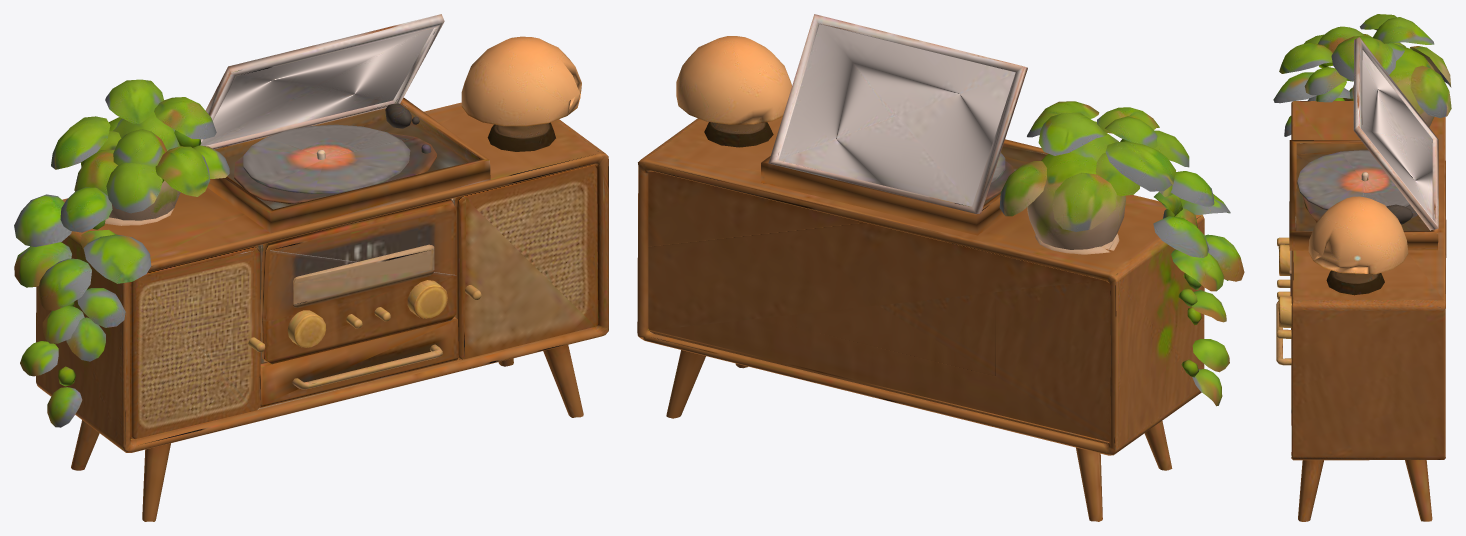
The model's file is music.starter.glb.
3 renders of one model, left to right at view 1: azimuth 30°, elevation 25°; view 2: azimuth 150°, elevation 25°; view 3: azimuth 270°, elevation 25°, orthographic. The views are drawn at different scales.
Parts seen in each view (by area): view 1: geometry_0; view 2: geometry_0; view 3: geometry_0.
Boxes of the visible parts, box(x1,y1,x2,y2) form: geometry_0: box(14, 14, 608, 521); geometry_0: box(637, 14, 1244, 521); geometry_0: box(1273, 14, 1451, 521).
Bounding box in the file's own units: 1 × 0.71 × 0.3276.
1 material, 1 textured.
